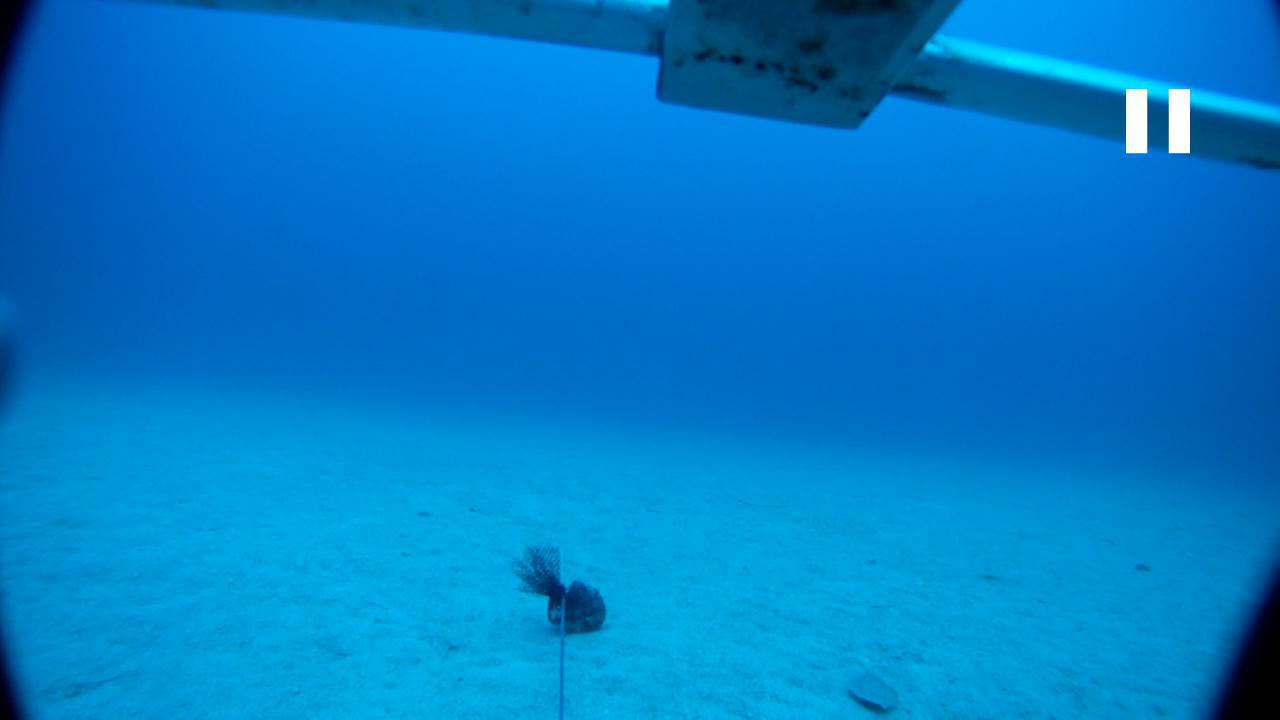bothus: (838, 652, 904, 714)
